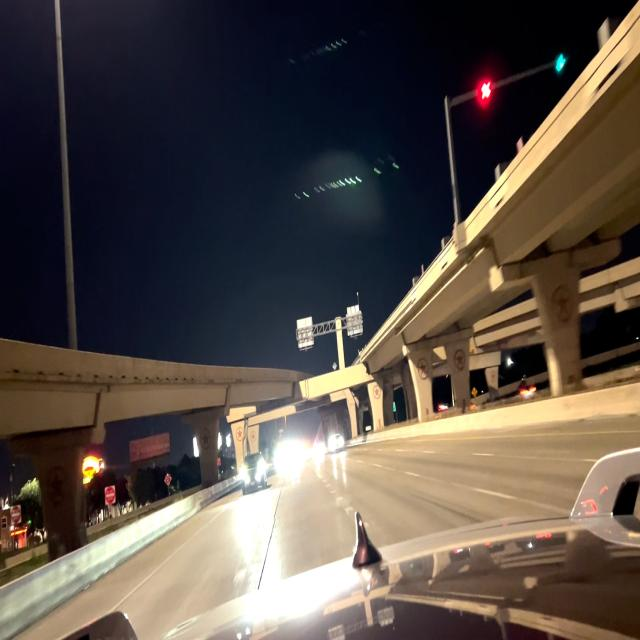back-of-sign: (297, 317, 314, 349), (347, 306, 364, 336)
